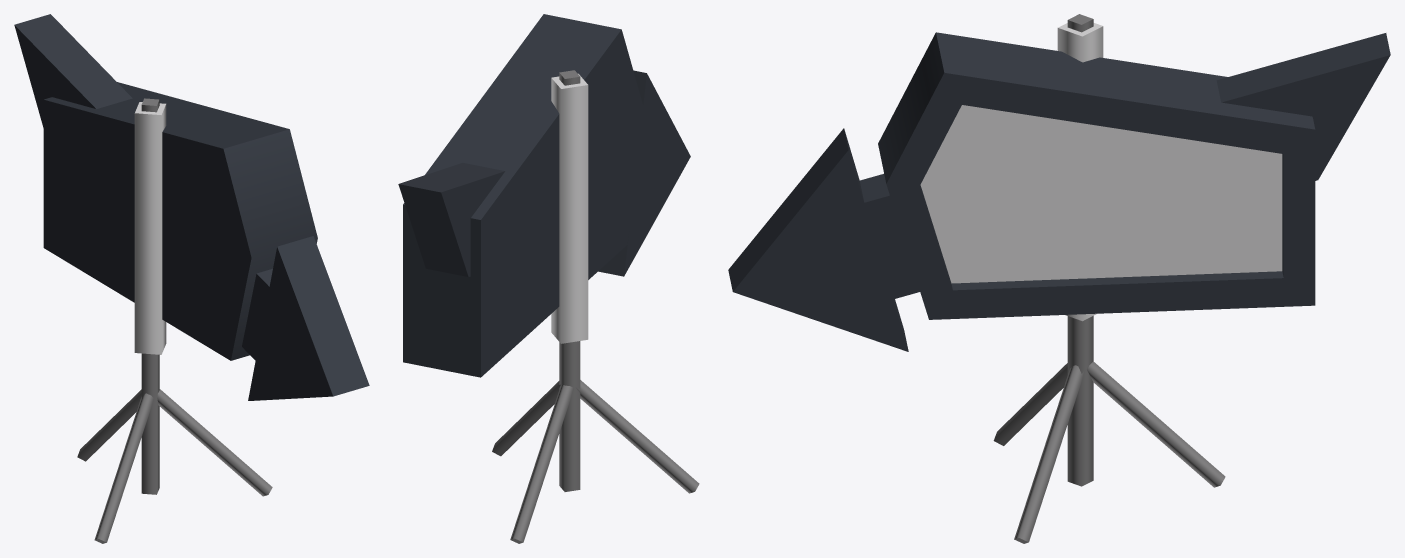
Rendered from SM_billboard_Arrow.gltf.
The picture shows the model from 3 angles, left to right: view 1: azimuth 30°, elevation 25°; view 2: azimuth 150°, elevation 25°; view 3: azimuth 270°, elevation 25°; orthographic projection. The views are drawn at different scales.
Parts seen in each view (by area): view 1: SM_billboard_Arrow; view 2: SM_billboard_Arrow; view 3: SM_billboard_Arrow.
Boxes of the visible parts, x1,y1,x2,y2 form: SM_billboard_Arrow: (14,14,369,543); SM_billboard_Arrow: (398,14,699,543); SM_billboard_Arrow: (728,14,1390,543).
Size of the model in its own units: 0.7947 by 1.65 by 2.09.
1 material, 1 textured.
